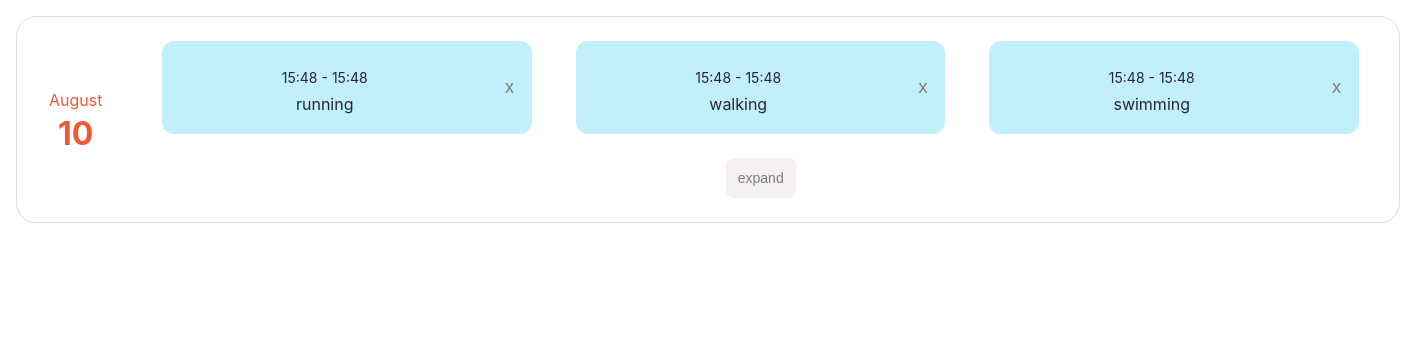
DayItems Component › toggles expansion when button is clicked
// Click the expand button
Click the button "expand". click: [761, 178]
box: x1=726 y1=158 x2=796 y2=198
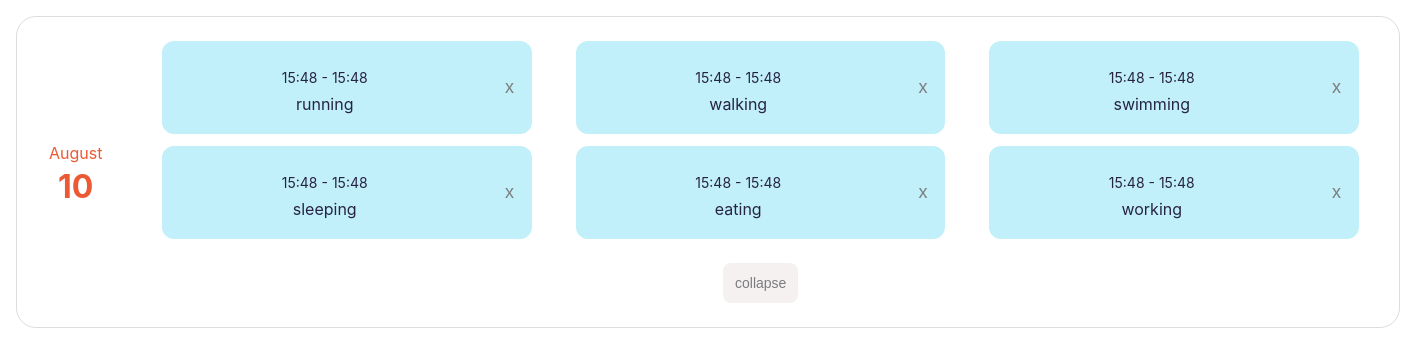
Expected: the text "sleeping" is shown, x1=293 y1=199 x2=357 y2=219
Expected: the text "eating" is shown, x1=715 y1=199 x2=762 y2=219
Expected: the text "working" is shown, x1=1121 y1=199 x2=1182 y2=219
// Click the collapse button
Click the button "collapse". click: [761, 283]
box: x1=723 y1=263 x2=798 y2=303
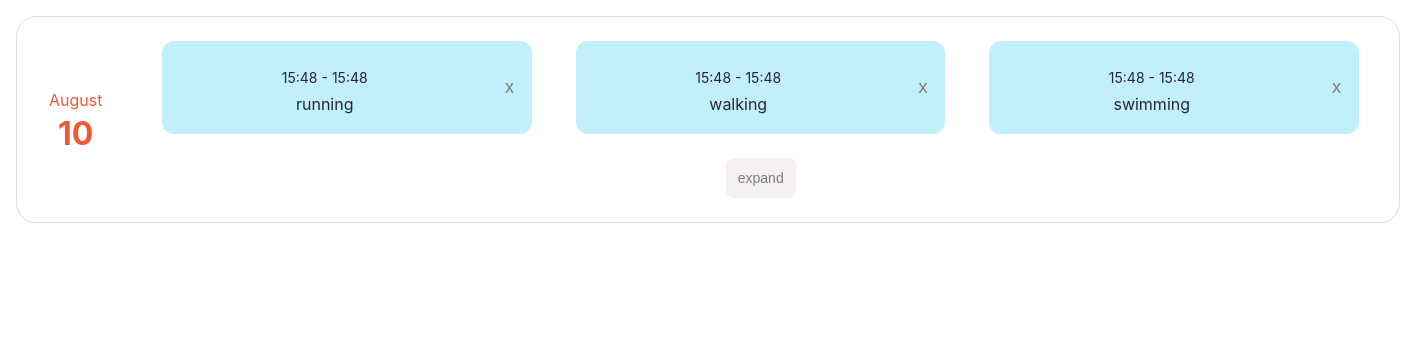
Expected: the text "sleeping" is gone
Expected: the text "eating" is gone
Expected: the text "working" is gone
